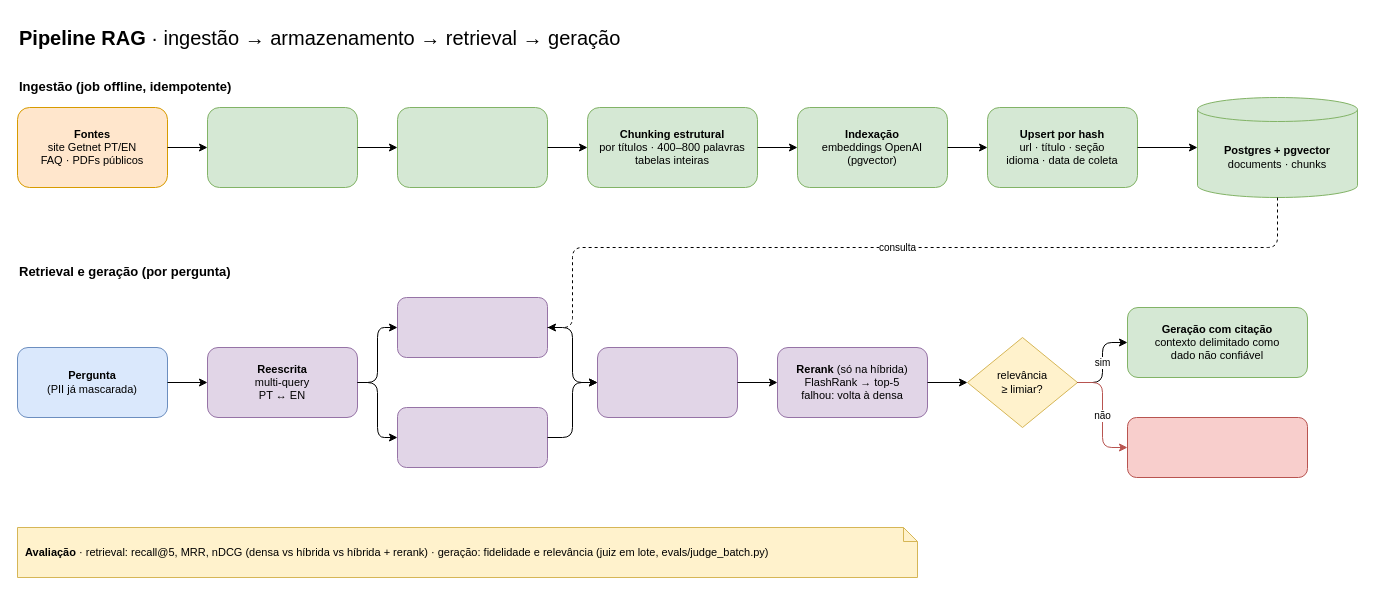
This 1375x595 diagram has some shape labels left out. The centre of each missing label's shape, as x and y in pixels:
BM25 top-20 bm25s em memória (só na híbrida): point (472, 327)
Crawler sitemap · robots.txt allowlist de domínios: point (282, 147)
Densa (padrão) pgvector · corte RAG_DENSE_THRESHOLD: point (472, 437)
Extração HTML e PDF remove boilerplate: point (472, 147)
RRF fusão de rankings (só na híbrida): point (667, 382)
web_search (DuckDuckGo) ou "não sei" / escalar: point (1217, 447)
